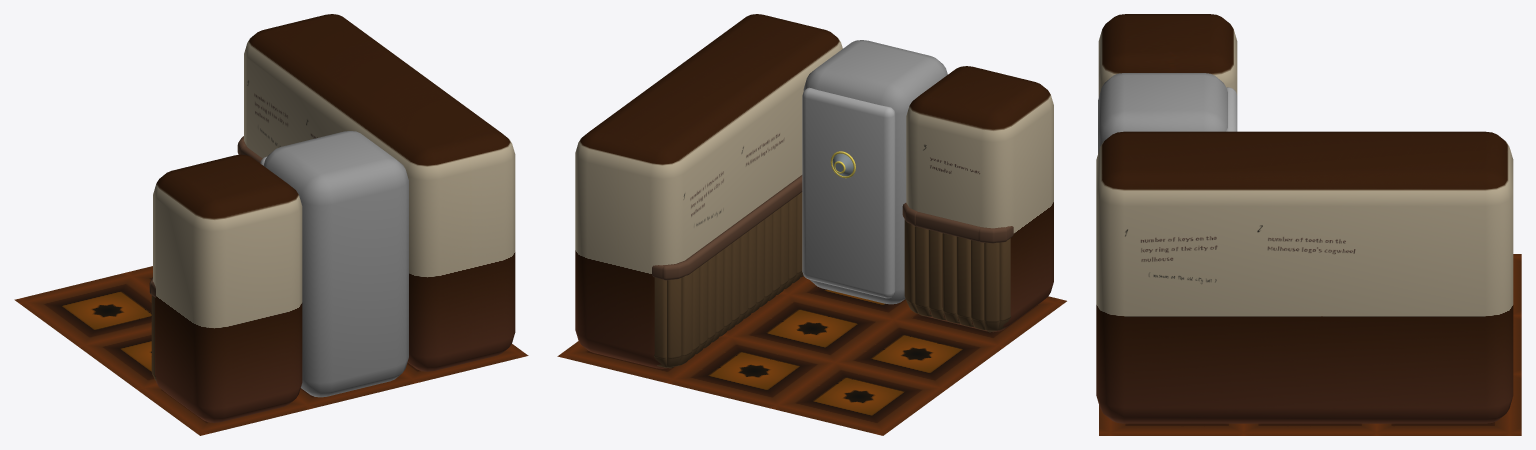
File: laby.gltf
The picture shows the model from 3 angles, left to right: view 1: azimuth 30°, elevation 25°; view 2: azimuth 150°, elevation 25°; view 3: azimuth 270°, elevation 25°; orthographic projection. The views are drawn at different scales.
Visible parts, largest first — view 1: BoîteChanfrein001, BoîteChanfrein003, BoîteChanfrein002, Plan001; view 2: BoîteChanfrein001, Plan001, BoîteChanfrein003, BoîteChanfrein004, BoîteChanfrein002, BoîteChanfrein005, BoîteChanfrein083, BoîteChanfrein089, BoîteChanfrein065, BoîteChanfrein074, BoîteChanfrein062, BoîteChanfrein071 (+20 smaller); view 3: BoîteChanfrein001, BoîteChanfrein003, BoîteChanfrein002, Plan001, BoîteChanfrein004.
Boxes of the visible parts, box(x1,y1,x2,y2) form: BoîteChanfrein001: box(244, 14, 515, 371); BoîteChanfrein003: box(153, 154, 302, 422); BoîteChanfrein002: box(263, 131, 408, 397); Plan001: box(14, 266, 528, 435); BoîteChanfrein001: box(575, 14, 842, 368); Plan001: box(557, 276, 1066, 435); BoîteChanfrein003: box(906, 66, 1053, 332); BoîteChanfrein004: box(802, 87, 895, 298); BoîteChanfrein002: box(803, 40, 947, 304); BoîteChanfrein005: box(685, 175, 802, 274); BoîteChanfrein083: box(984, 242, 999, 322); BoîteChanfrein089: box(667, 278, 681, 358); BoîteChanfrein065: box(914, 226, 928, 307); BoîteChanfrein074: box(956, 236, 970, 317); BoîteChanfrein062: box(928, 230, 942, 310); BoîteChanfrein071: box(971, 240, 984, 321); BoîteChanfrein001: box(1096, 131, 1513, 423); BoîteChanfrein003: box(1098, 14, 1237, 97); BoîteChanfrein002: box(1098, 73, 1227, 153); Plan001: box(1099, 254, 1521, 435); BoîteChanfrein004: box(1226, 87, 1237, 131).
Size of the model in its own units: 1.18 by 0.762 by 1.17.
9 materials, 3 textured.
